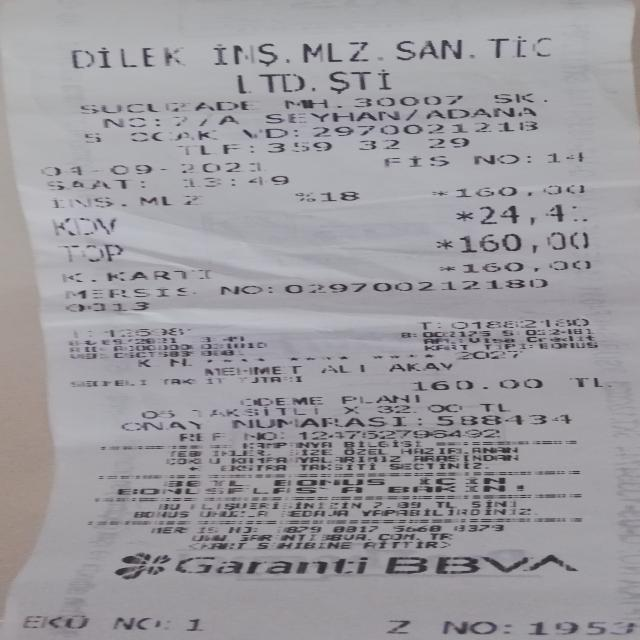text: (381, 553, 577, 576), (282, 278, 556, 294), (178, 555, 369, 576), (313, 120, 542, 136), (41, 160, 262, 175), (435, 232, 592, 252), (69, 46, 184, 68), (456, 205, 574, 224), (281, 96, 465, 108), (297, 429, 500, 439), (431, 185, 587, 198), (226, 73, 314, 93), (296, 41, 374, 63), (327, 69, 395, 94), (440, 262, 591, 273), (435, 414, 573, 426), (207, 43, 282, 65), (80, 102, 260, 111), (186, 534, 454, 540), (231, 417, 405, 426), (392, 38, 457, 61), (539, 620, 632, 636), (487, 36, 554, 58), (412, 379, 543, 390), (447, 318, 590, 328), (262, 111, 391, 122), (72, 285, 196, 296), (190, 407, 318, 417), (422, 108, 536, 119), (114, 488, 319, 494), (47, 217, 116, 234), (62, 244, 125, 262), (103, 270, 213, 280), (181, 176, 289, 186), (190, 502, 362, 508), (21, 615, 88, 630), (364, 508, 527, 514), (198, 365, 306, 374), (375, 403, 463, 414), (296, 189, 360, 204), (101, 327, 186, 338), (402, 446, 518, 454), (46, 179, 136, 189), (66, 344, 193, 351), (120, 419, 200, 430), (295, 455, 402, 463), (123, 131, 216, 140), (381, 155, 450, 167), (399, 329, 491, 338), (242, 440, 333, 449), (271, 478, 387, 485), (162, 478, 242, 488), (244, 396, 323, 406), (340, 394, 419, 404), (170, 448, 268, 456), (134, 195, 199, 207), (300, 462, 376, 472), (413, 454, 506, 462), (417, 476, 510, 484), (63, 302, 144, 311), (383, 462, 486, 469), (442, 619, 487, 635), (108, 616, 159, 630), (264, 141, 334, 151), (52, 197, 114, 208), (362, 540, 436, 549), (255, 541, 350, 548), (470, 152, 521, 165), (132, 358, 202, 367), (371, 501, 460, 508), (526, 327, 594, 336), (101, 116, 148, 129), (67, 352, 188, 357), (178, 144, 238, 154), (64, 379, 148, 386), (388, 362, 453, 371), (460, 350, 524, 359), (65, 339, 176, 344), (425, 136, 470, 148), (338, 440, 423, 446), (178, 431, 224, 442), (132, 509, 188, 518), (240, 128, 290, 138), (279, 509, 350, 516), (198, 510, 267, 517), (570, 376, 610, 388), (220, 465, 287, 472), (492, 91, 528, 104), (242, 430, 281, 442), (519, 336, 594, 342), (550, 150, 582, 164), (163, 456, 219, 464), (383, 486, 457, 492), (356, 139, 400, 149), (386, 524, 441, 532), (226, 456, 288, 463), (484, 341, 532, 350), (318, 364, 366, 373), (451, 524, 505, 532), (199, 342, 270, 348), (540, 342, 600, 349), (139, 408, 173, 420), (218, 284, 257, 294), (198, 335, 246, 343), (386, 618, 410, 634), (198, 542, 244, 550), (234, 377, 305, 382), (423, 342, 467, 350), (468, 500, 518, 507), (148, 526, 191, 534), (156, 378, 222, 383), (343, 448, 387, 455), (478, 403, 512, 412), (60, 272, 90, 282), (284, 449, 334, 455), (196, 350, 244, 356), (469, 337, 517, 343), (282, 526, 320, 533), (466, 484, 499, 492), (332, 526, 376, 532), (186, 616, 201, 632), (222, 112, 239, 126), (421, 337, 459, 343), (156, 502, 179, 511), (82, 132, 98, 144), (499, 619, 511, 635), (230, 526, 254, 534), (154, 115, 168, 128), (404, 108, 418, 121), (197, 526, 219, 534), (281, 429, 294, 442), (174, 114, 186, 128), (202, 113, 214, 127), (341, 406, 362, 414), (340, 485, 361, 493), (417, 320, 432, 330), (134, 177, 146, 189), (502, 328, 516, 337), (524, 151, 532, 165), (262, 284, 273, 294), (529, 340, 539, 350), (246, 142, 254, 153), (417, 414, 421, 426)
